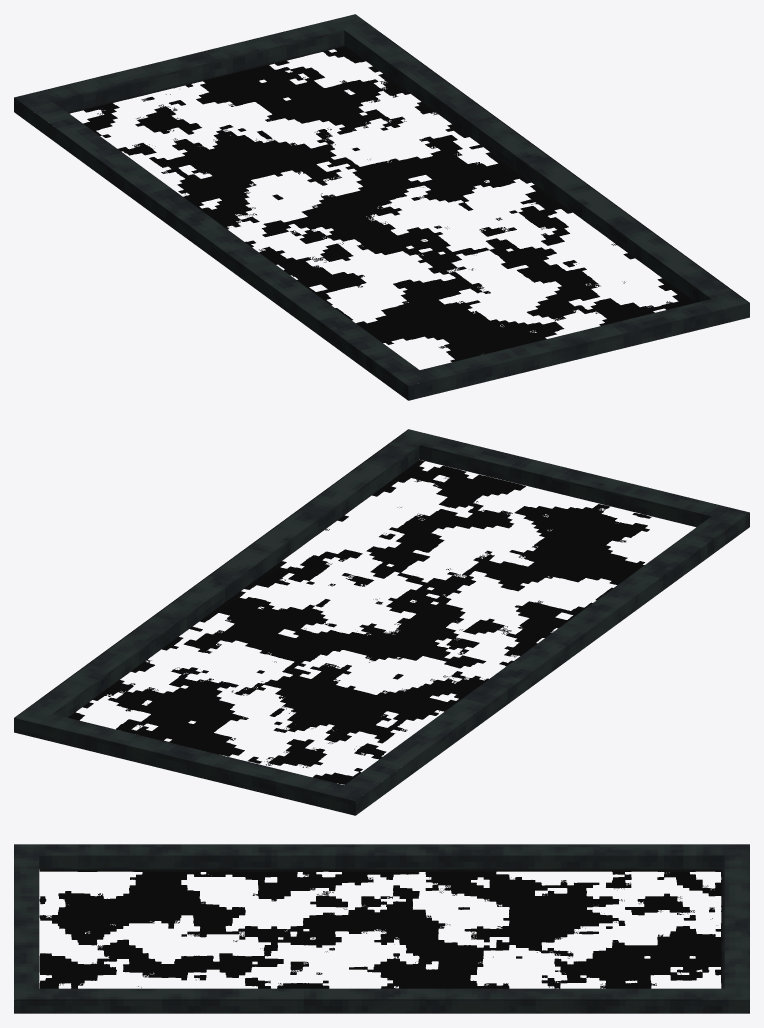
Rendered from window.fbx.
3 views of the same model, one above another, from view 1: azimuth 30°, elevation 25°; view 2: azimuth 150°, elevation 25°; view 3: azimuth 270°, elevation 25° (orthographic). The views are drawn at different scales.
Parts seen in each view (by area): view 1: window; view 2: window; view 3: window.
Part boxes in pixels (box(x1,y1,x2,y2)): window: box(14, 14, 749, 400); window: box(14, 429, 749, 815); window: box(14, 844, 749, 1013).
Size of the model in its own units: 4 by 2 by 0.0819.
1 material, 1 textured.
